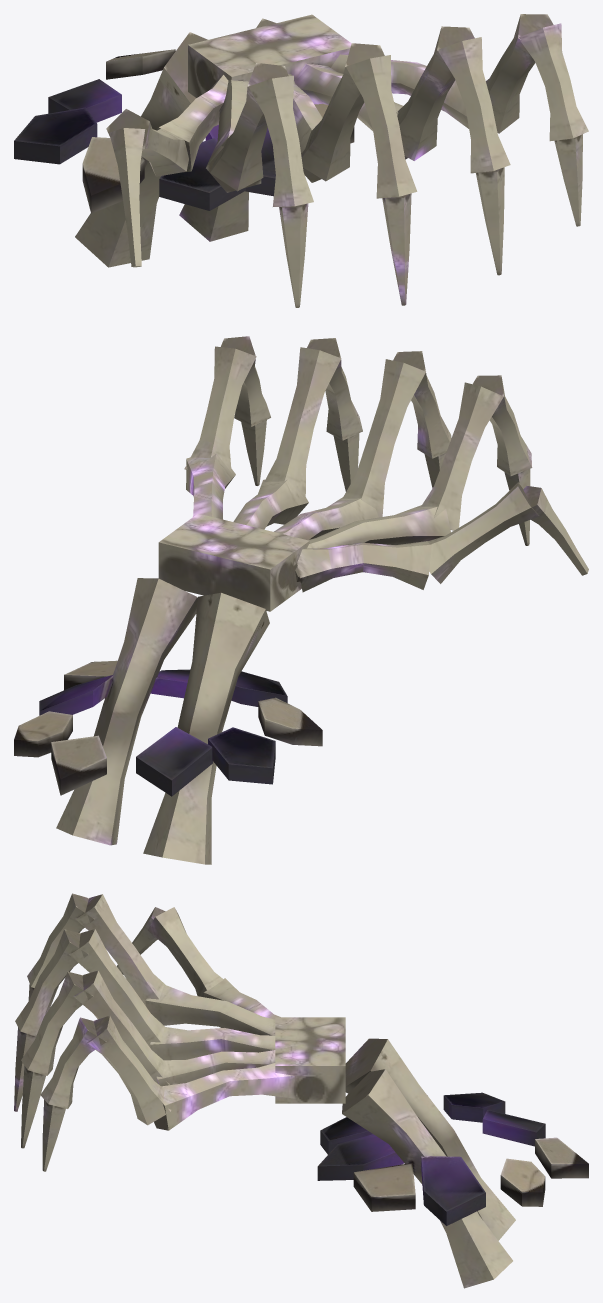
The model's file is abyss_bones.glb.
The picture shows the model from 3 angles, top to bottom: view 1: azimuth 30°, elevation 25°; view 2: azimuth 150°, elevation 25°; view 3: azimuth 270°, elevation 25°; orthographic projection. The views are drawn at different scales.
Parts seen in each view (by area): view 1: abyss_bones; view 2: abyss_bones; view 3: abyss_bones.
Part boxes in pixels (x1,y1,x2,y2): abyss_bones: [14, 14, 588, 307]; abyss_bones: [14, 336, 588, 864]; abyss_bones: [14, 893, 588, 1288].
Size of the model in its own units: 1.22 by 1.08 by 1.8.
Materials: 1 (1 with a texture image).
